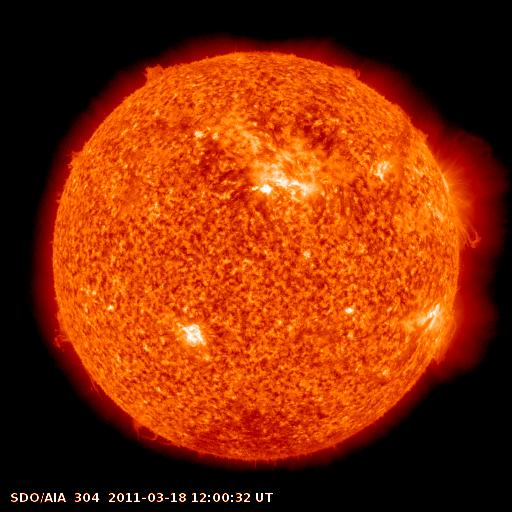prominence: (420, 306, 474, 375), (383, 92, 438, 151), (124, 408, 183, 456), (40, 305, 90, 360), (133, 53, 180, 91), (59, 142, 94, 175), (332, 55, 369, 85)
